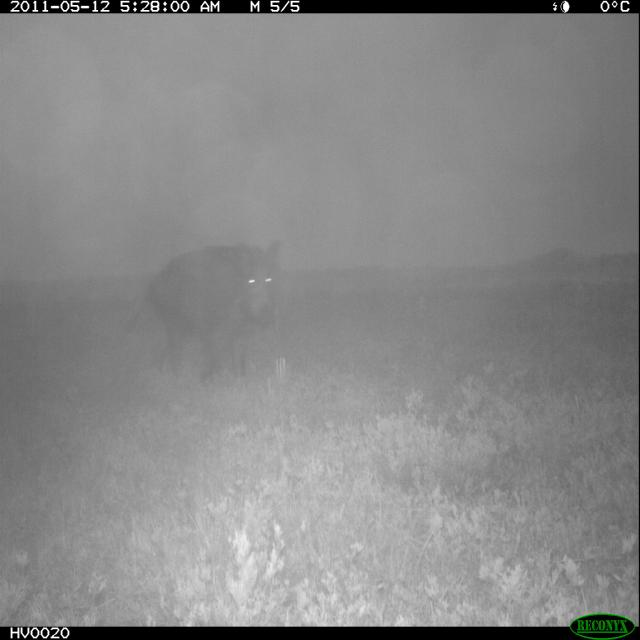boar: (112, 213, 302, 392)
